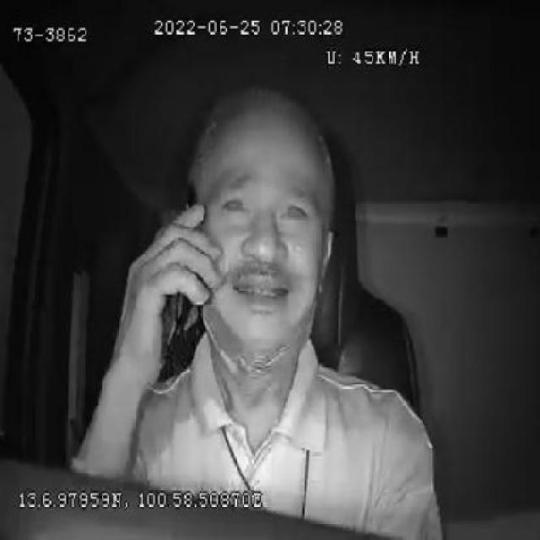phone: (153, 182, 200, 361)
